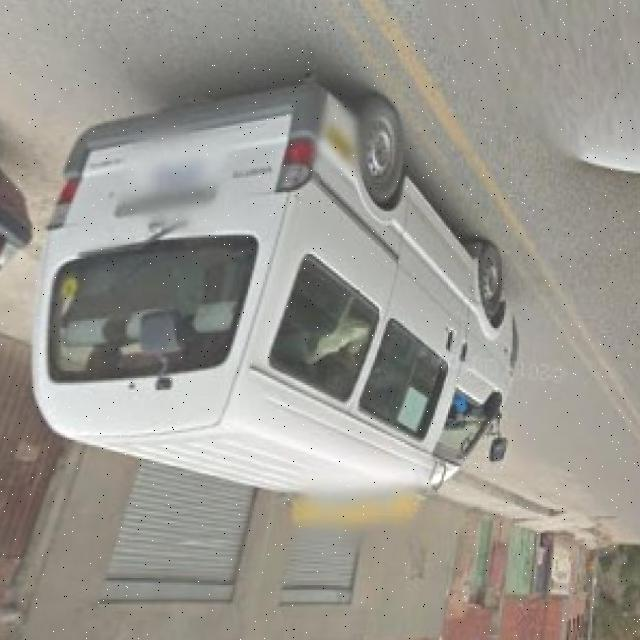car: (24, 64, 534, 498)
